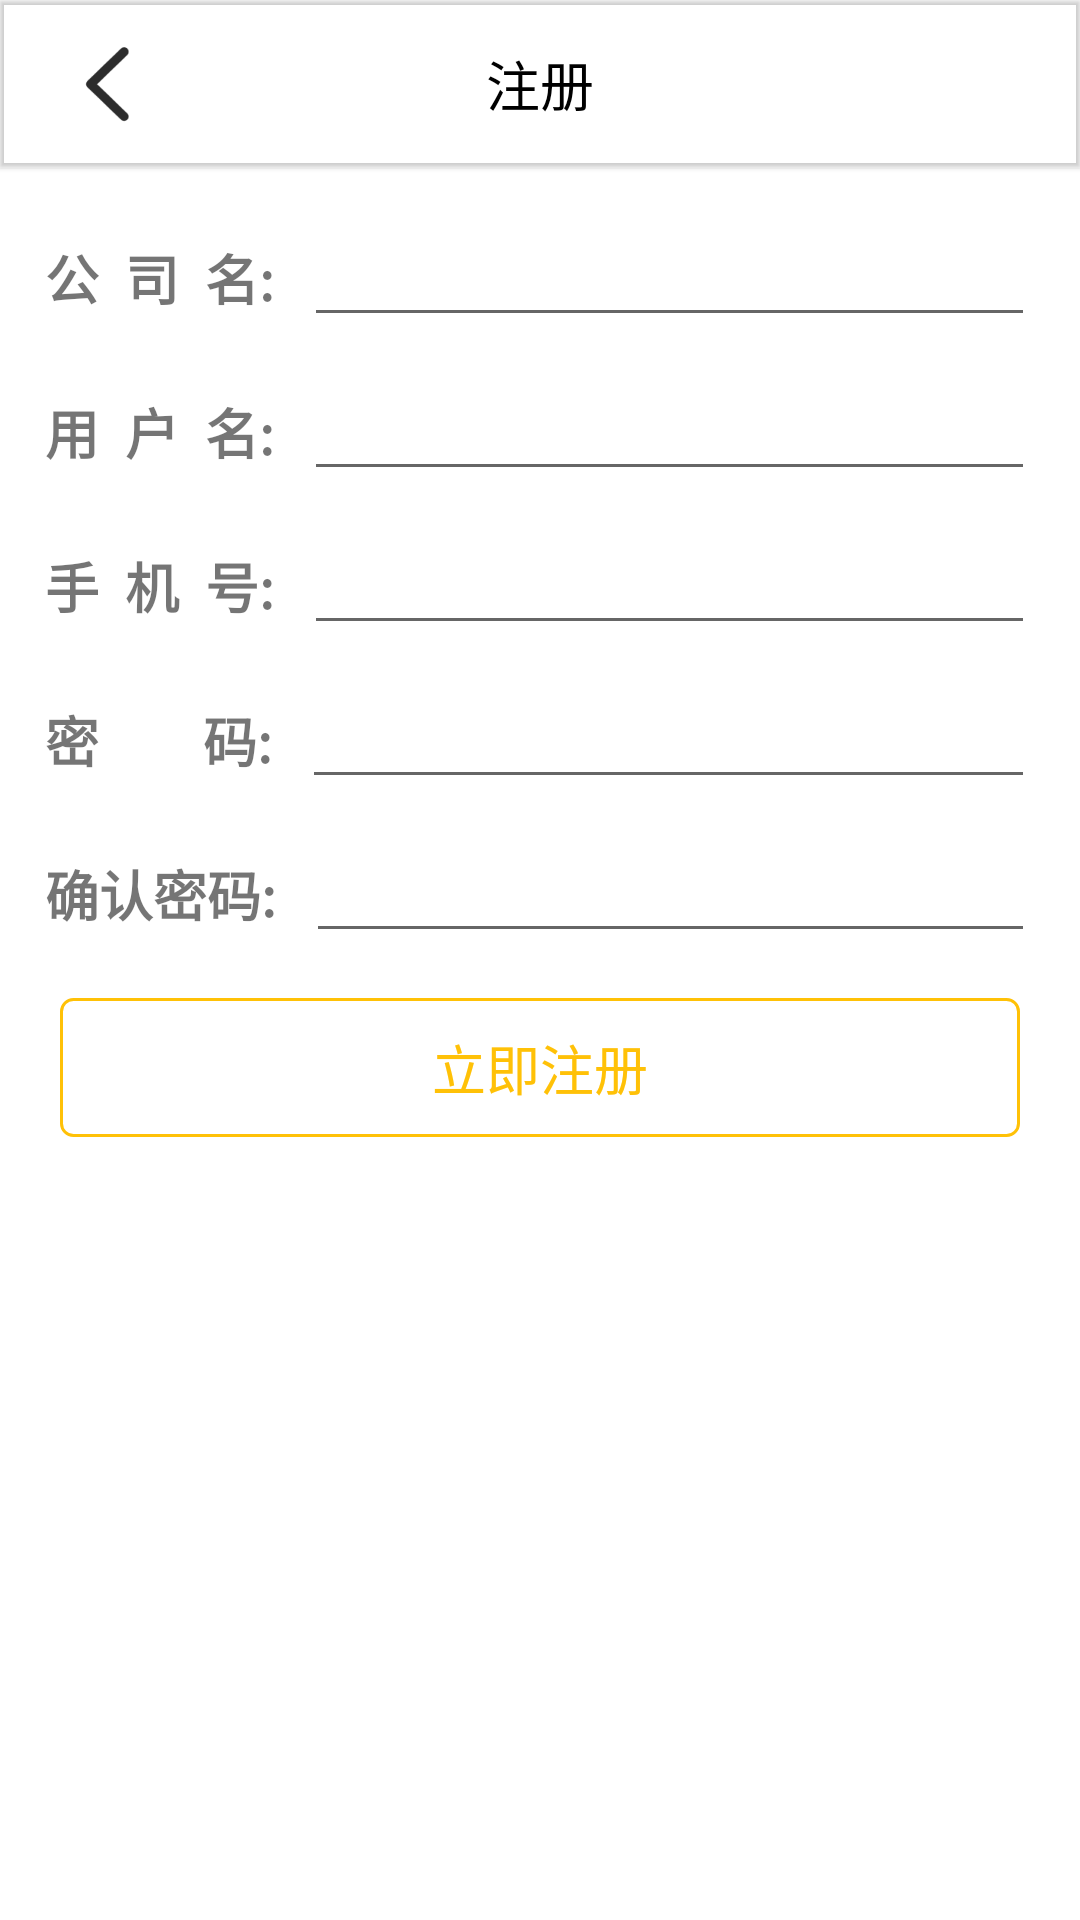

Icon bounding boxes for this 1080px×1920px phone screenshot, format region(x1, y1, x2, y2):
back: region(86, 47, 129, 121)
